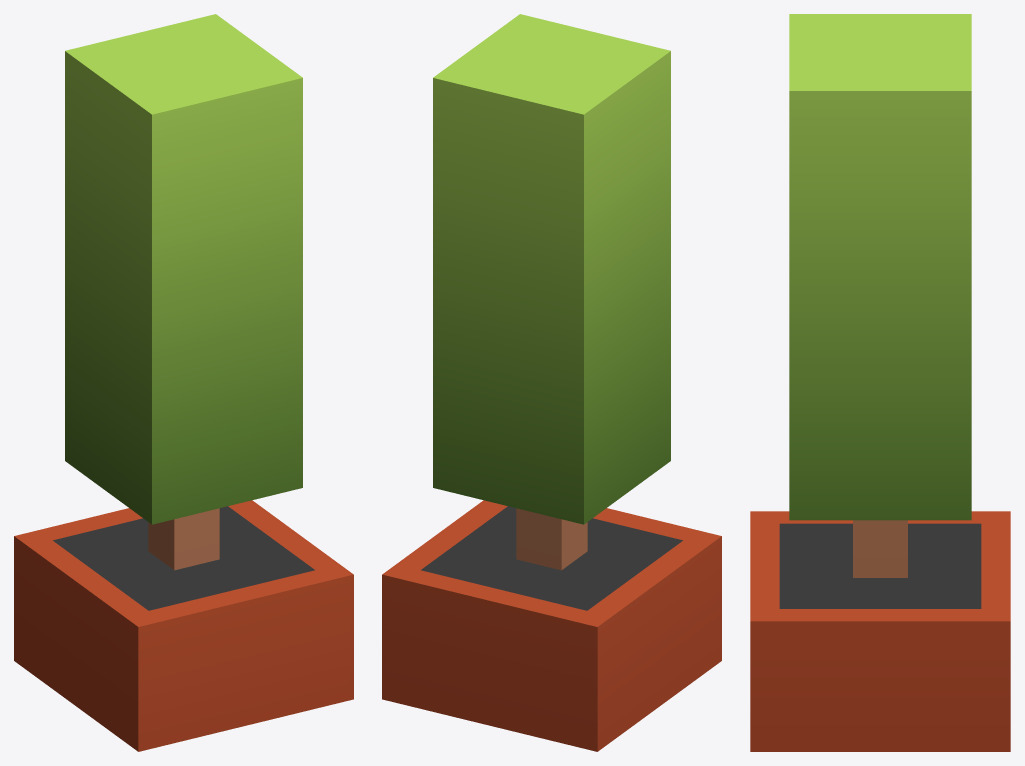
File: tree 3.fbx
3 views of the same model, side by side, from view 1: azimuth 30°, elevation 25°; view 2: azimuth 150°, elevation 25°; view 3: azimuth 270°, elevation 25° (orthographic). The views are drawn at different scales.
Visible parts, largest first — view 1: tree_3; view 2: tree_3; view 3: tree_3.
Boxes of the visible parts, <box> form: tree_3: <box>14,14,353,751</box>; tree_3: <box>382,14,721,751</box>; tree_3: <box>750,14,1010,751</box>.
Size of the model in its own units: 51.15 by 140 by 51.15.
1 material, 1 textured.
